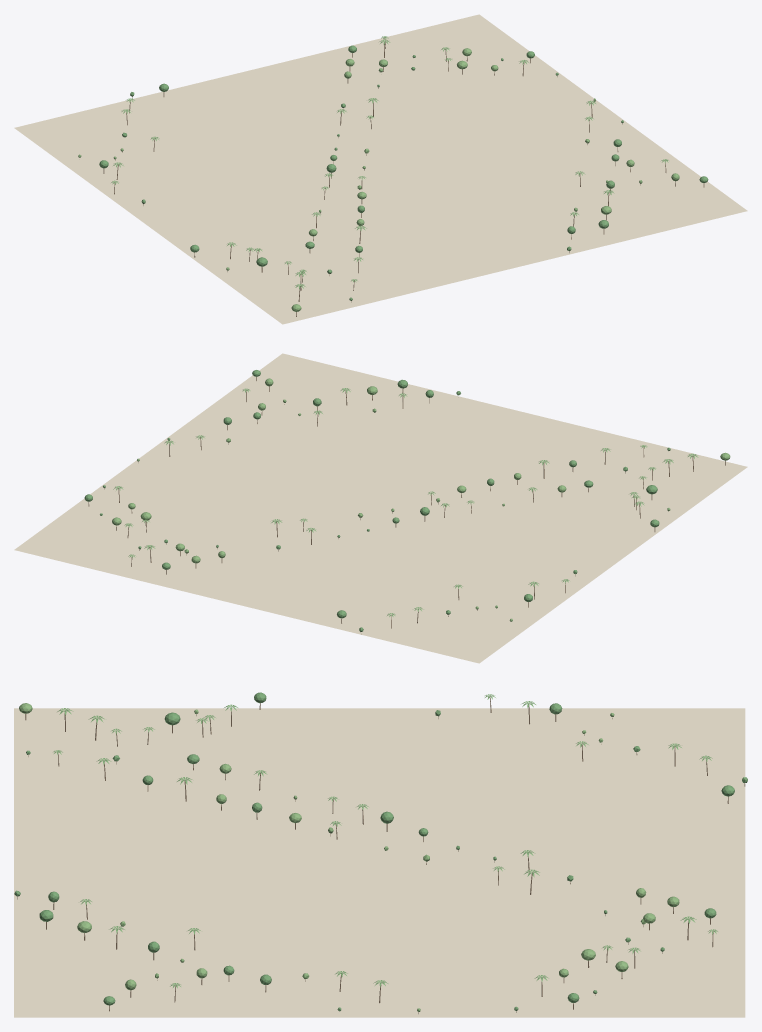
Rendered from nature_-4_-6.glb.
3 renders of one model, top to bottom at view 1: azimuth 30°, elevation 25°; view 2: azimuth 150°, elevation 25°; view 3: azimuth 270°, elevation 25°, orthographic. The views are drawn at different scales.
Parts seen in each view (by area): view 1: ground, foliage_a, foliage_b, palm_leaf, trunk; view 2: ground, foliage_a, foliage_b, palm_leaf, trunk; view 3: ground, foliage_a, foliage_b, palm_leaf, trunk.
Boxes of the visible parts, x1,y1,x2,y2 form: ground: (14,14,747,324); foliage_a: (99,45,708,300); foliage_b: (78,48,679,311); palm_leaf: (111,36,668,289); trunk: (103,38,704,316); ground: (14,353,747,663); foliage_a: (84,370,670,631); foliage_b: (112,378,730,621); palm_leaf: (113,388,698,616); trunk: (88,377,725,634); ground: (14,708,745,1017); foliage_a: (14,692,747,1011); foliage_b: (19,703,679,1011); palm_leaf: (53,694,717,988); trunk: (17,696,745,1013).
Size of the model in its own units: 251 by 8.84 by 251.
